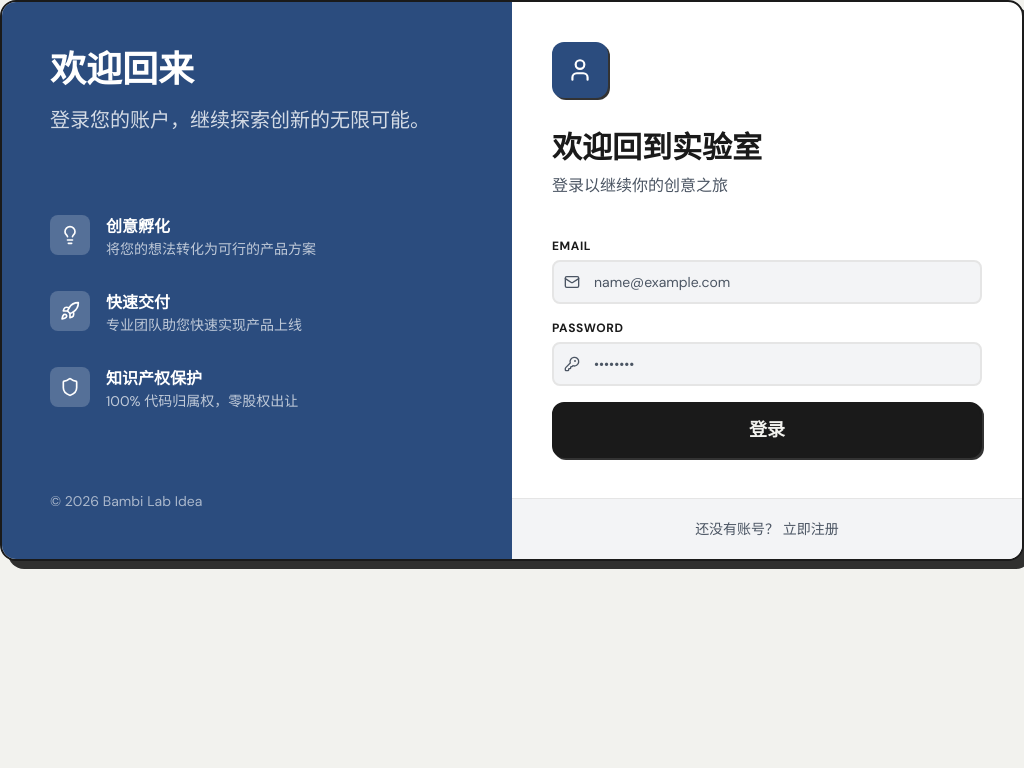
Test: Login Page › shows validation errors for invalid input
This screenshot has width=1024, height=768.
Click the button "登录".
click(767, 430)  # box top-left (552, 402), bottom-right (982, 458)
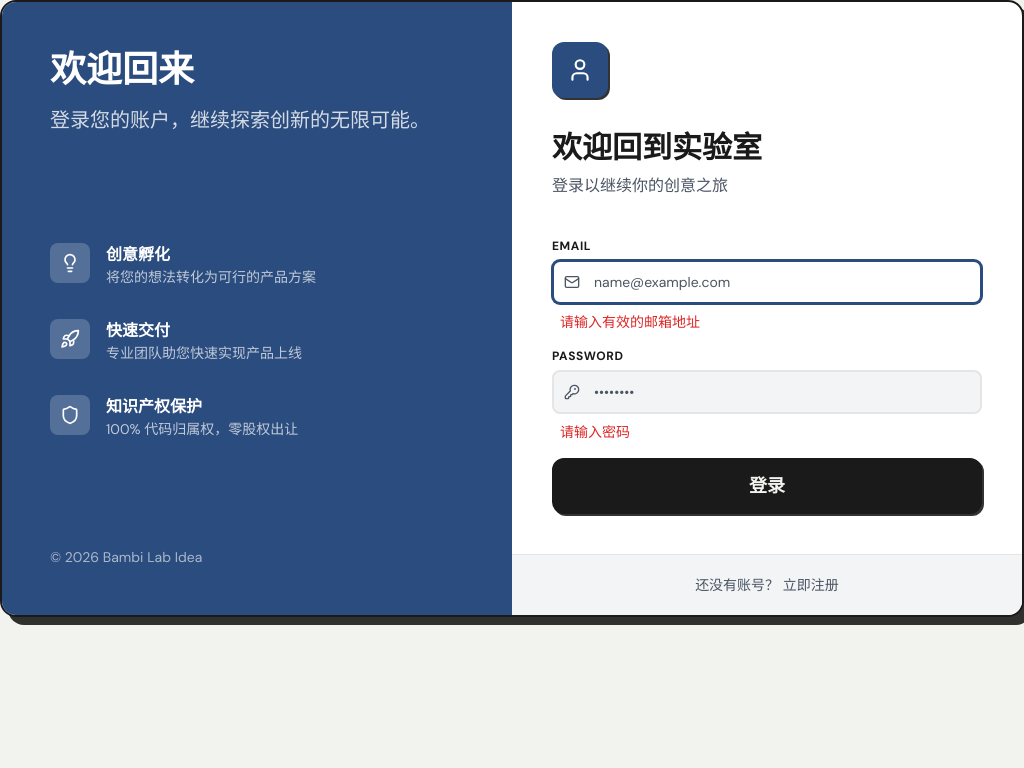
expect the text "请输入有效的邮箱地址" is shown: met, box top-left (560, 313), bottom-right (700, 331)
